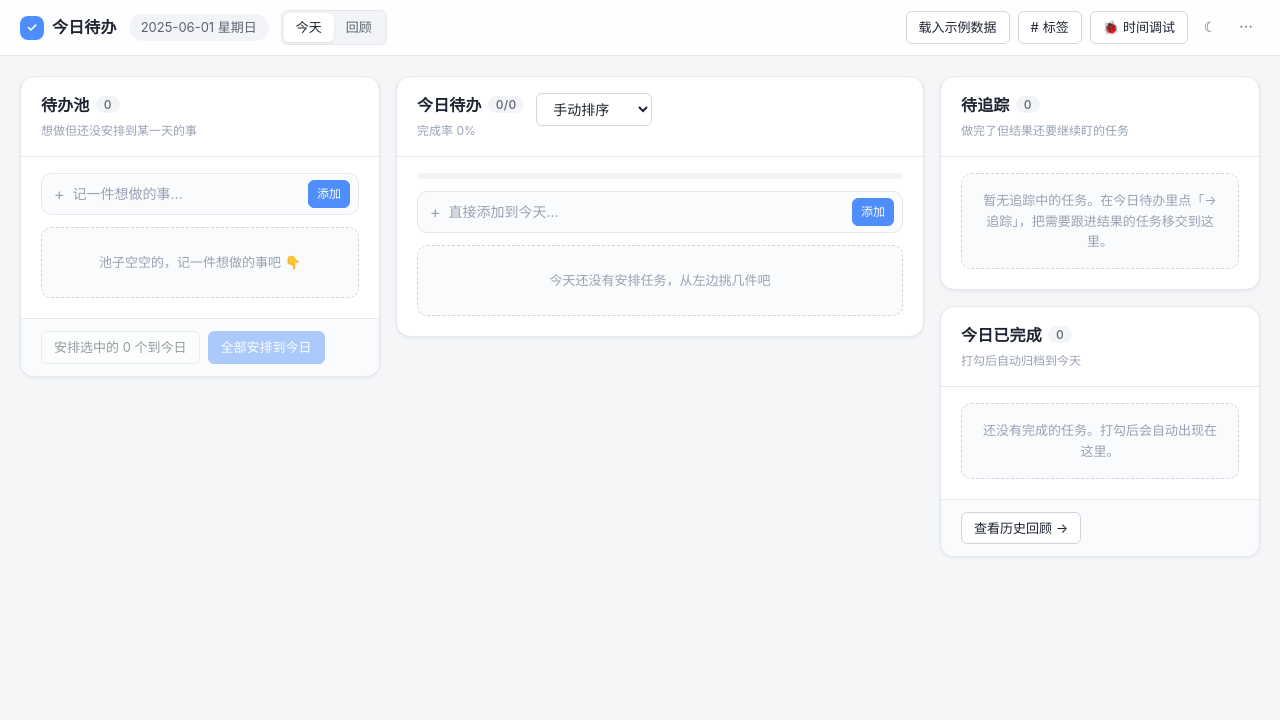
App 真实渲染（jsdom） › 二级任务：点 ＋ 新增子任务，渲染在父任务下面并带自己的勾选框
The image size is (1280, 720).
In the field named "添加待办": (186, 194) [73,176,300,212], type "用户权限开发"
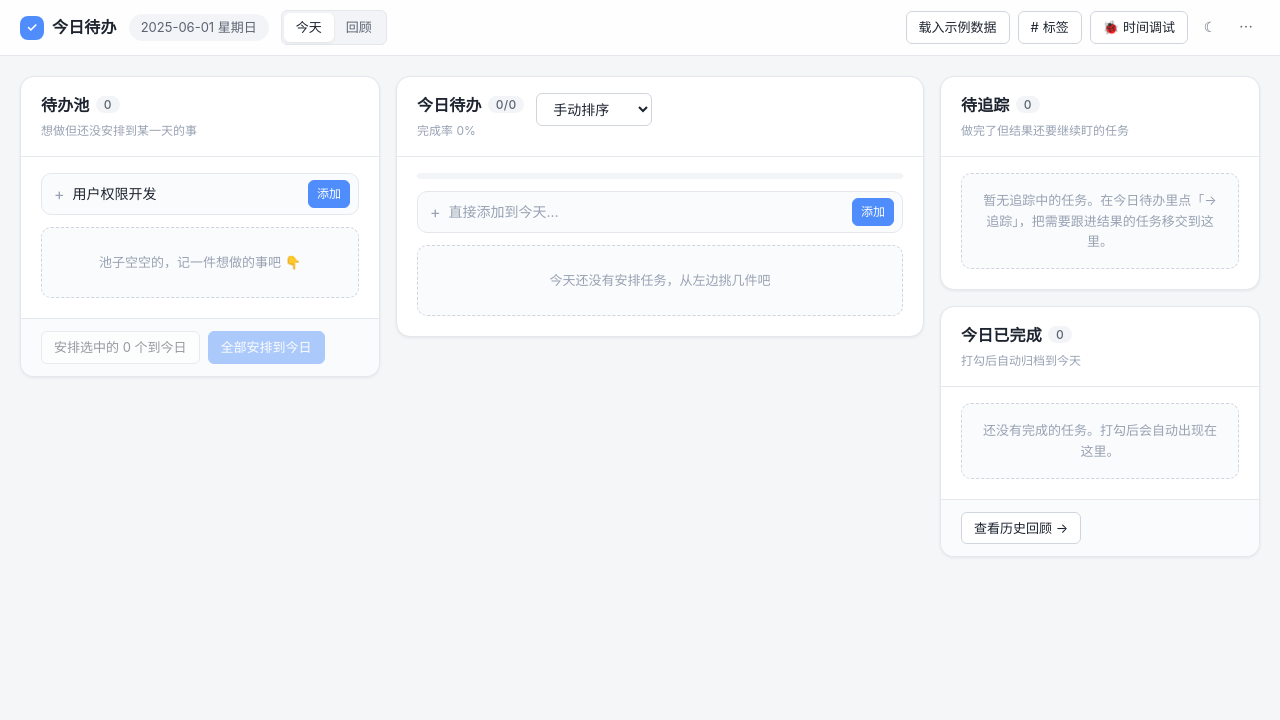
Submit the form named "添加待办", box [41,173,359,215]
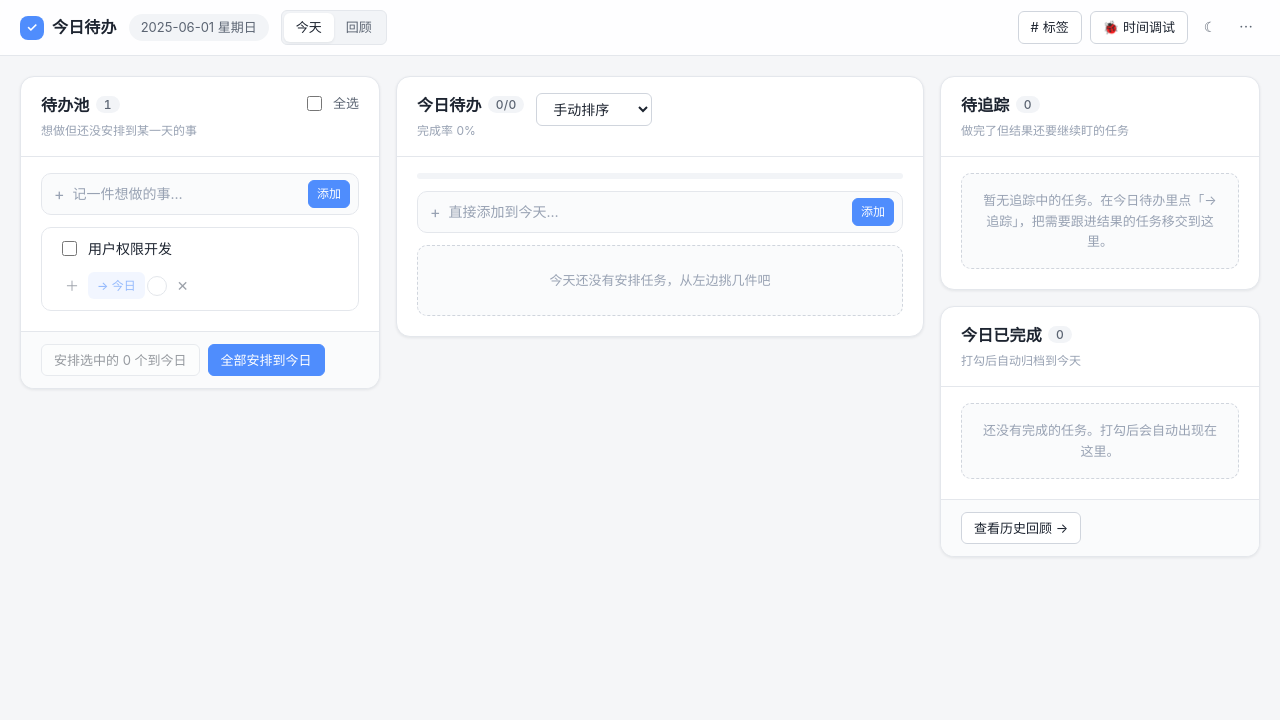
Click the button "→ 今日": (116, 286) [88,272,145,299]
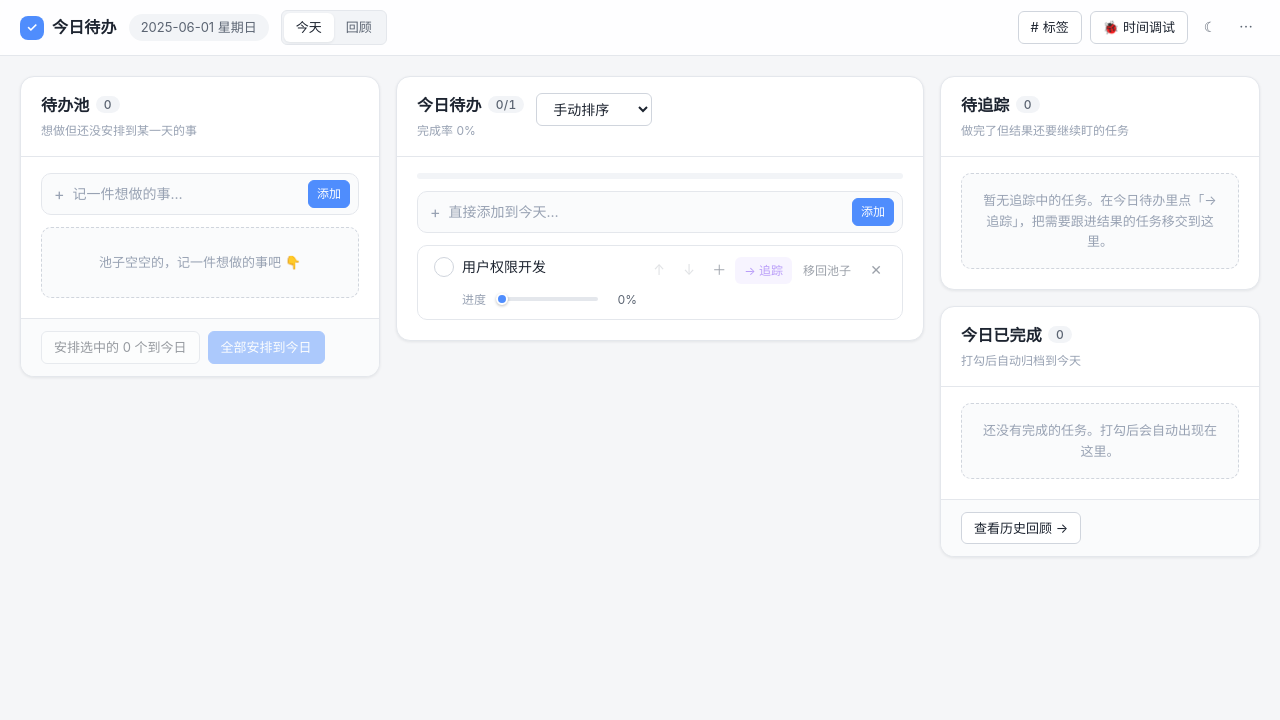
// 点父任务行上的「添加子任务」按钮
Click the button named "添加子任务：用户权限开发": (719, 270) [705,256,733,284]
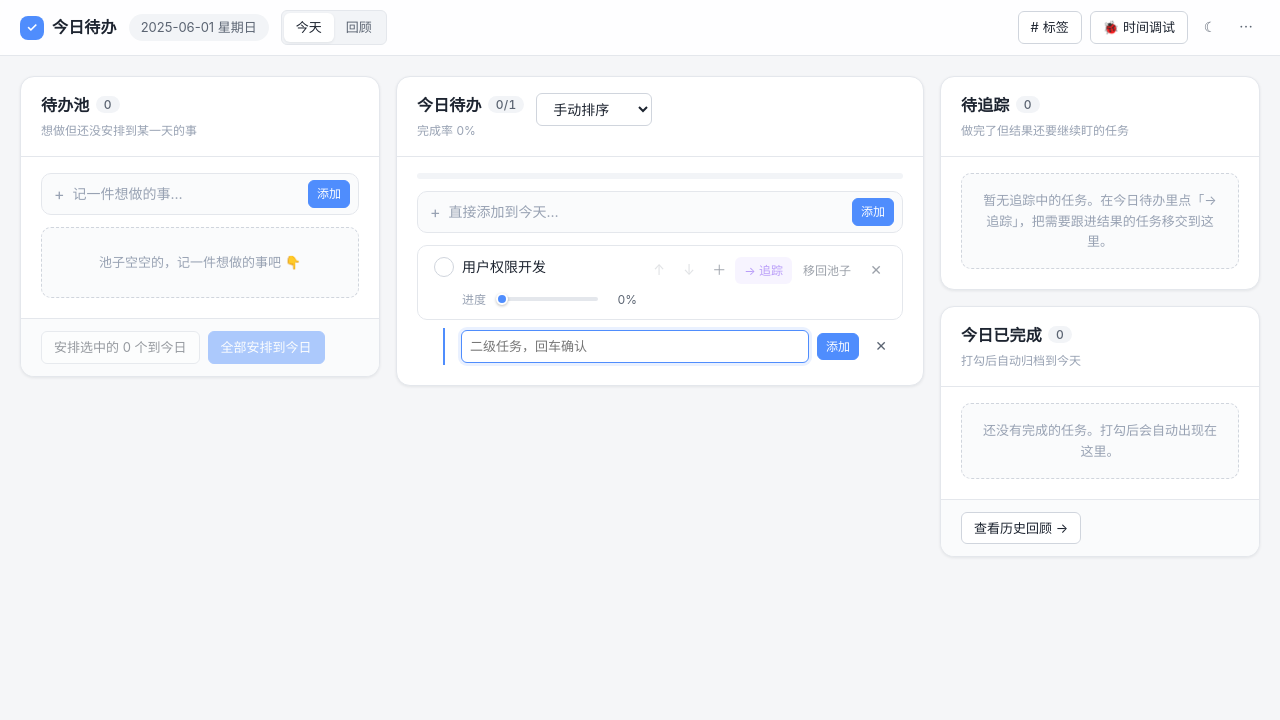
In the field named "为「用户权限开发」添加子任务": (635, 346) [461,330,809,363], type "开发进度"
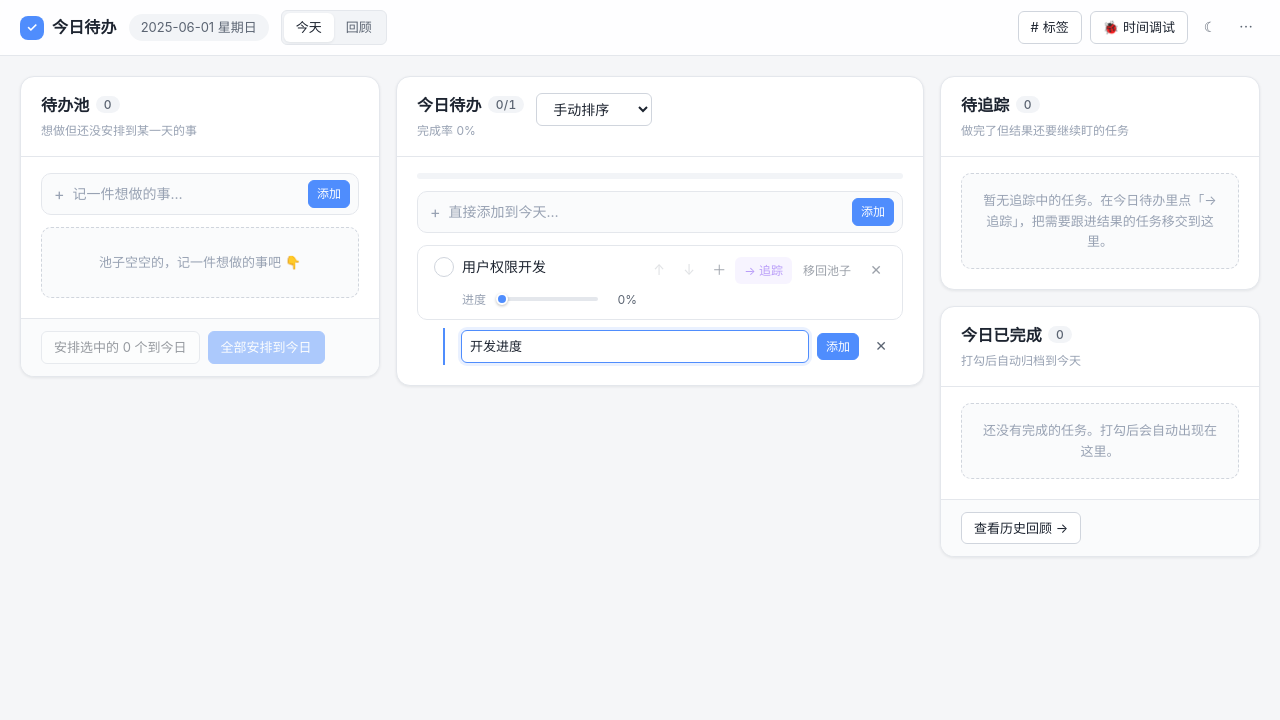
Submit the form named "为「用户权限开发」添加子任务", box [443,328,903,365]
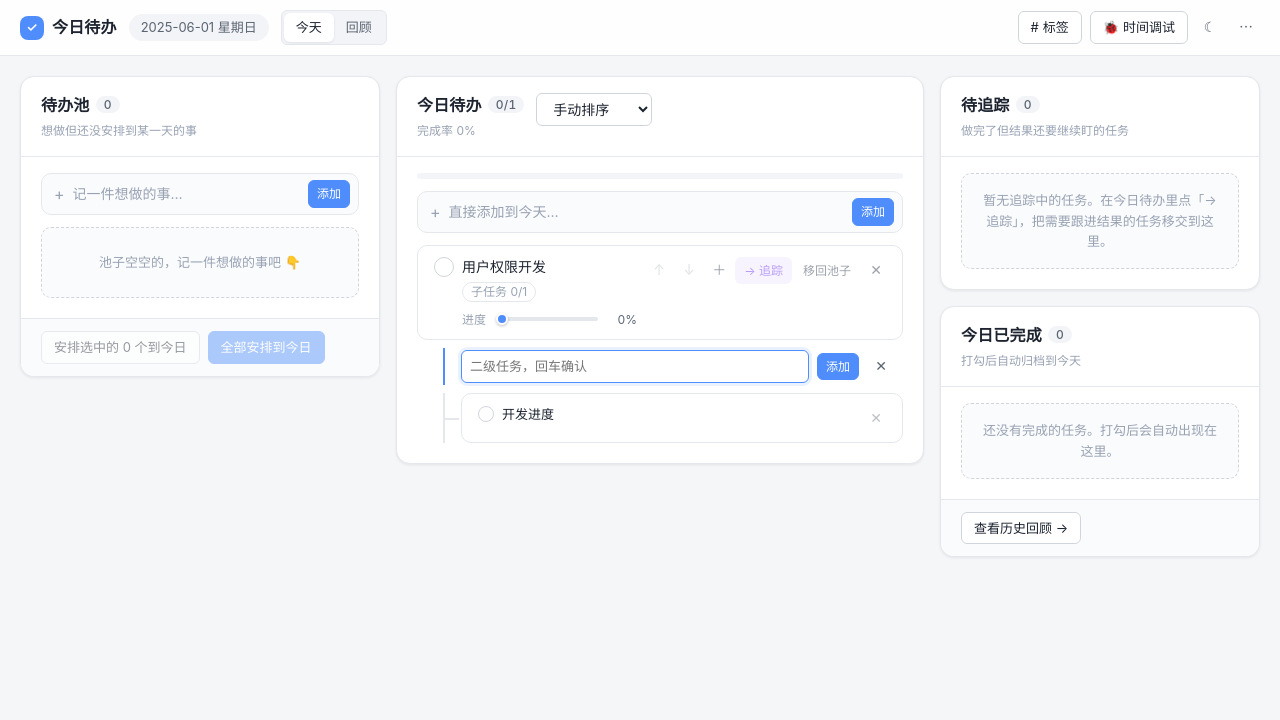
Now the list item named "完成任务：用户权限开发" is shown, box [417,245,903,443]
Now the checkbox named "完成任务：开发进度" is shown, box [478,406,494,422]
Now the text "子任务 0/1" is shown, box [462,282,536,302]
